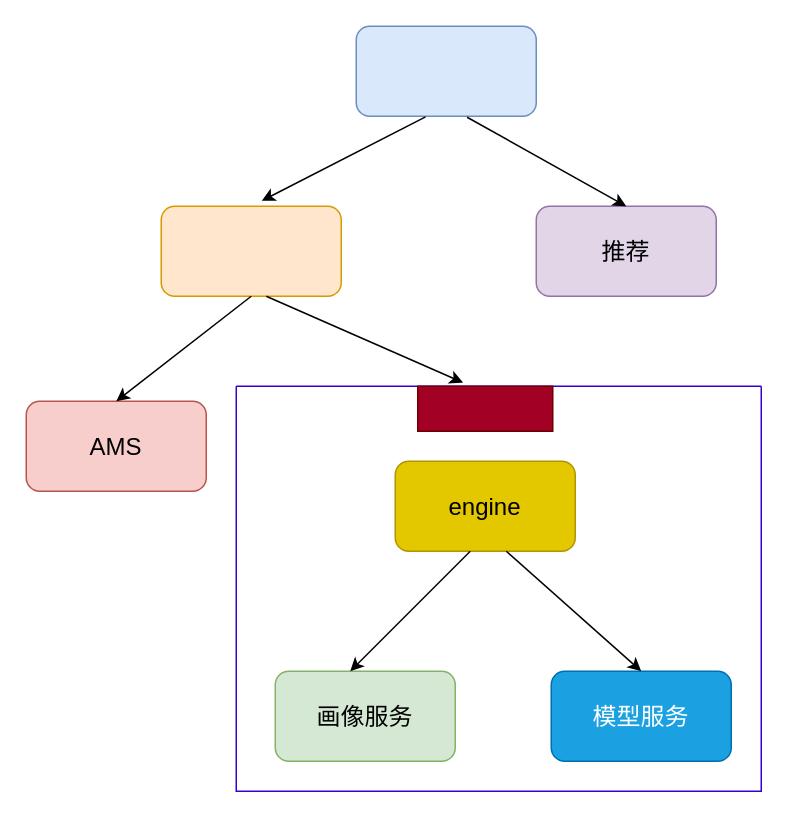
The diagram is 788 pixels wide and 818 high, and some of its shapes have lost their labels. Each missing label, with the centre of its shape:
"ssp" belongs at [250,250].
"view" belongs at [445,70].
"广告算法" belongs at [484,408].
